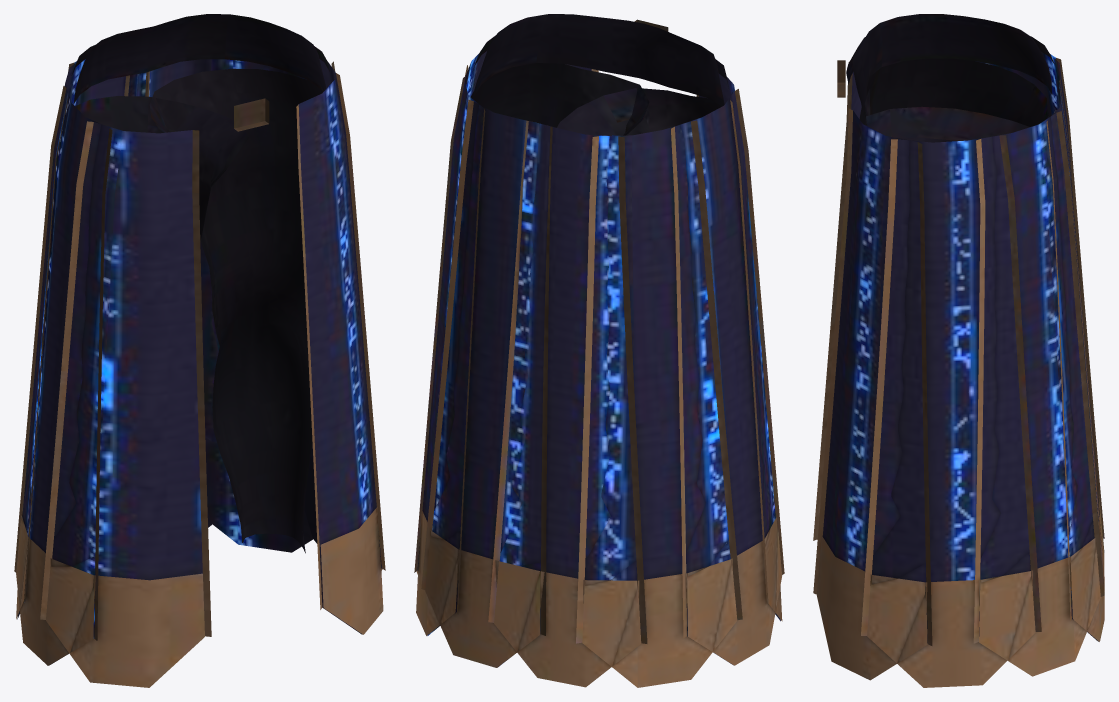
The model's file is Calça_do_Mago_nivel100.glb.
The picture shows the model from 3 angles, left to right: view 1: azimuth 30°, elevation 25°; view 2: azimuth 150°, elevation 25°; view 3: azimuth 270°, elevation 25°; orthographic projection. The views are drawn at different scales.
Parts seen in each view (by area): view 1: calca_do_mago_nivel100; view 2: calca_do_mago_nivel100; view 3: calca_do_mago_nivel100.
Part boxes in pixels (left/top/right/bottom): calca_do_mago_nivel100: left=14, top=14, right=385, bottom=687; calca_do_mago_nivel100: left=414, top=14, right=784, bottom=687; calca_do_mago_nivel100: left=813, top=14, right=1104, bottom=687.
Bounding box in the file's own units: 0.5487 × 0.8863 × 0.4277.
Materials: 1 (1 with a texture image).
